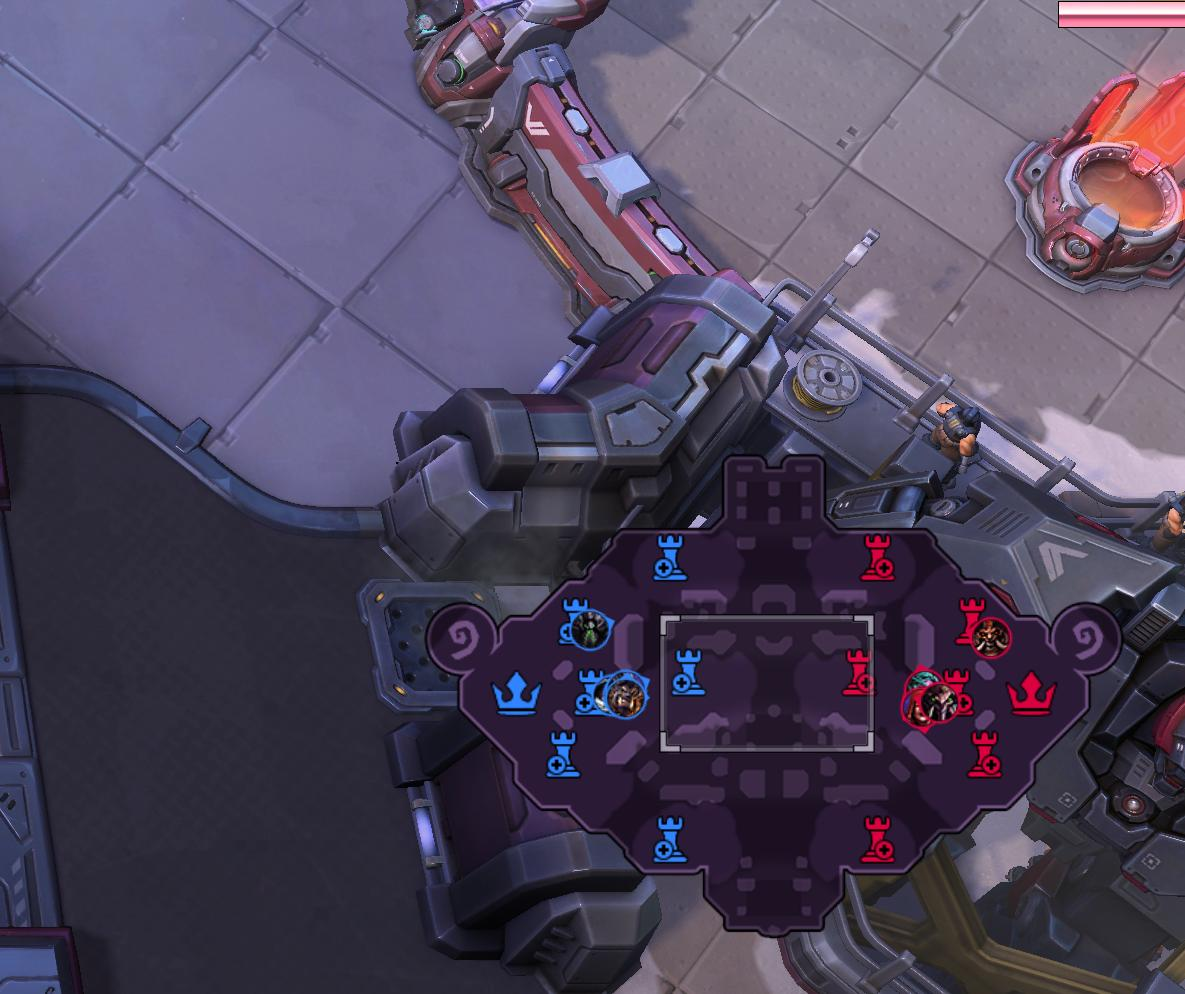blue player: (556, 594, 611, 647), (594, 670, 649, 720), (651, 814, 688, 864), (651, 534, 687, 581), (920, 683, 959, 721)
red player: (901, 665, 961, 733), (969, 616, 1011, 657), (571, 610, 610, 650), (906, 689, 934, 726)
